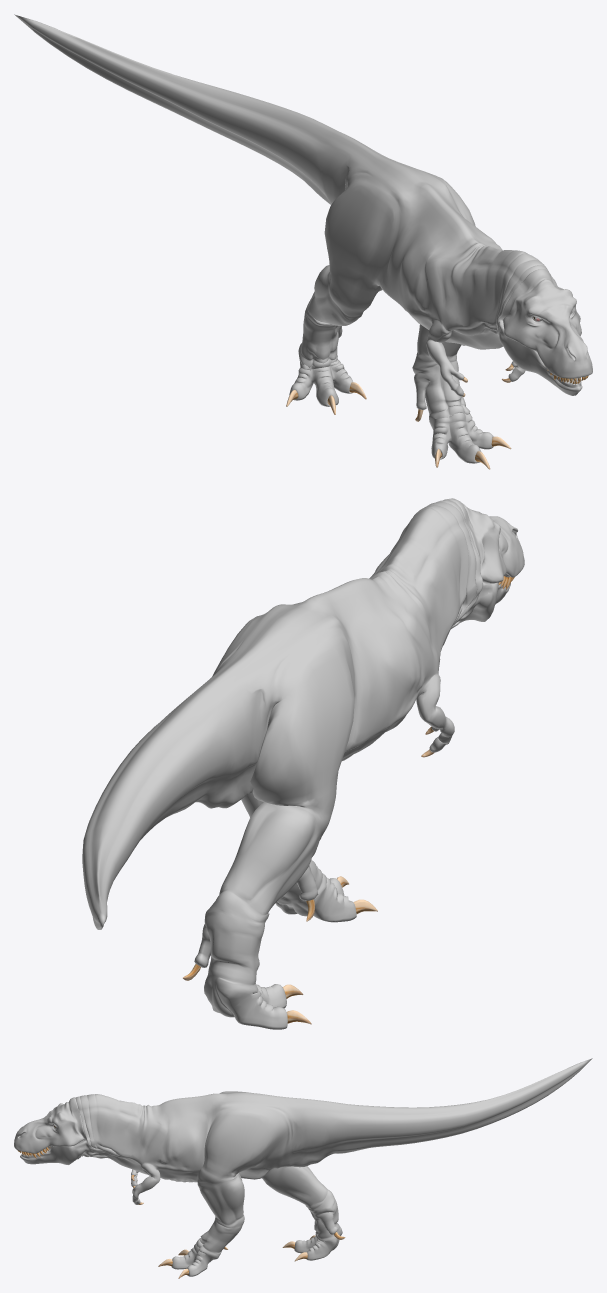
The model's file is Trex_DDS.FBX.
3 renders of one model, top to bottom at view 1: azimuth 30°, elevation 25°; view 2: azimuth 150°, elevation 25°; view 3: azimuth 270°, elevation 25°, orthographic. The views are drawn at different scales.
Visible parts, largest first — view 1: Skin, claws1; view 2: Skin, claws1; view 3: Skin, claws1.
Boxes of the visible parts, x1,y1,x2,y2 form: Skin: (14, 14, 592, 463); claws1: (286, 364, 513, 469); Skin: (82, 498, 524, 1029); claws1: (183, 726, 434, 1024); Skin: (14, 1058, 592, 1276); claws1: (131, 1175, 345, 1278).
Size of the model in its own units: 2.4 by 3.25 by 10.08.
